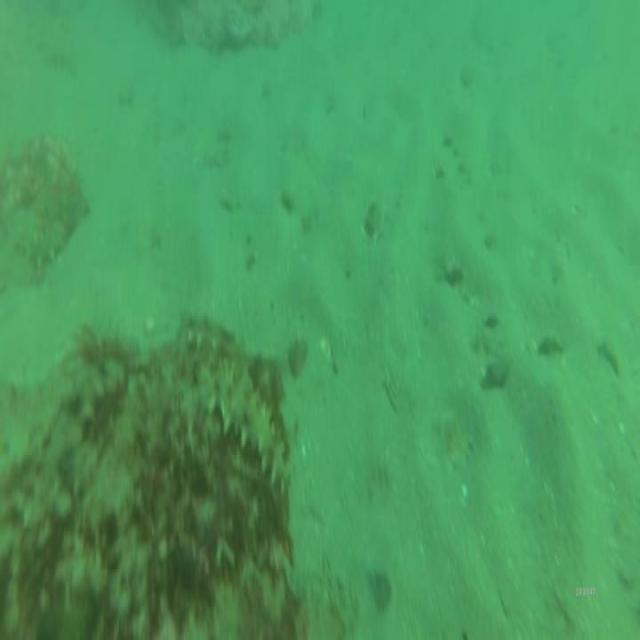holothurian: (212, 357, 294, 498)
